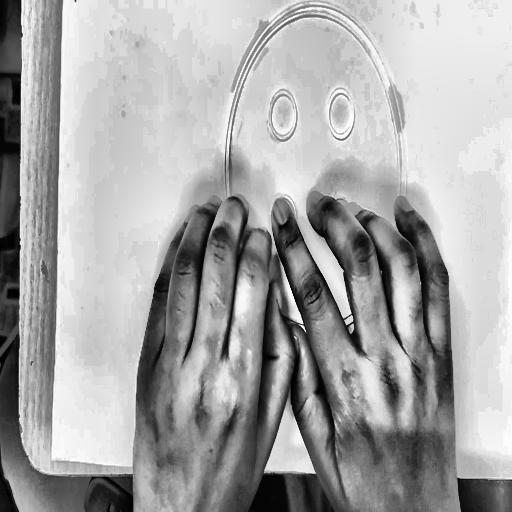bottom_left: (47, 450, 57, 467)
button: (214, 0, 419, 354)
